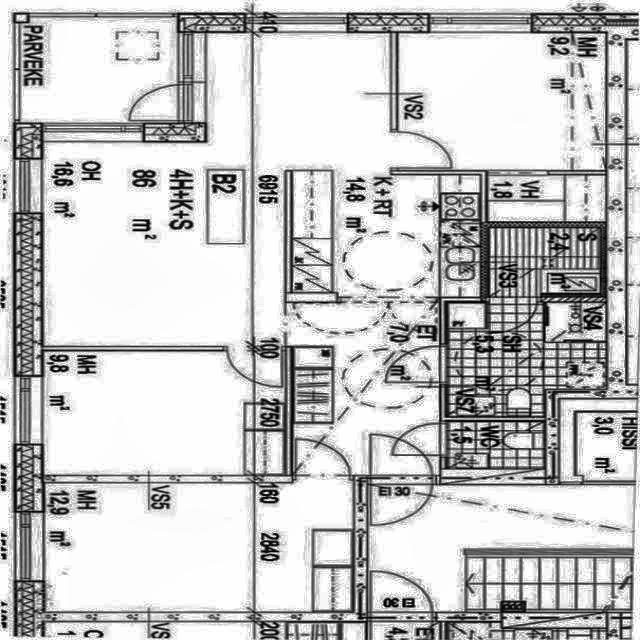room: (42, 32, 390, 346), (45, 485, 353, 611), (44, 352, 282, 474), (400, 33, 605, 170), (291, 302, 441, 474), (449, 303, 607, 417), (489, 228, 600, 296), (449, 422, 544, 468)
